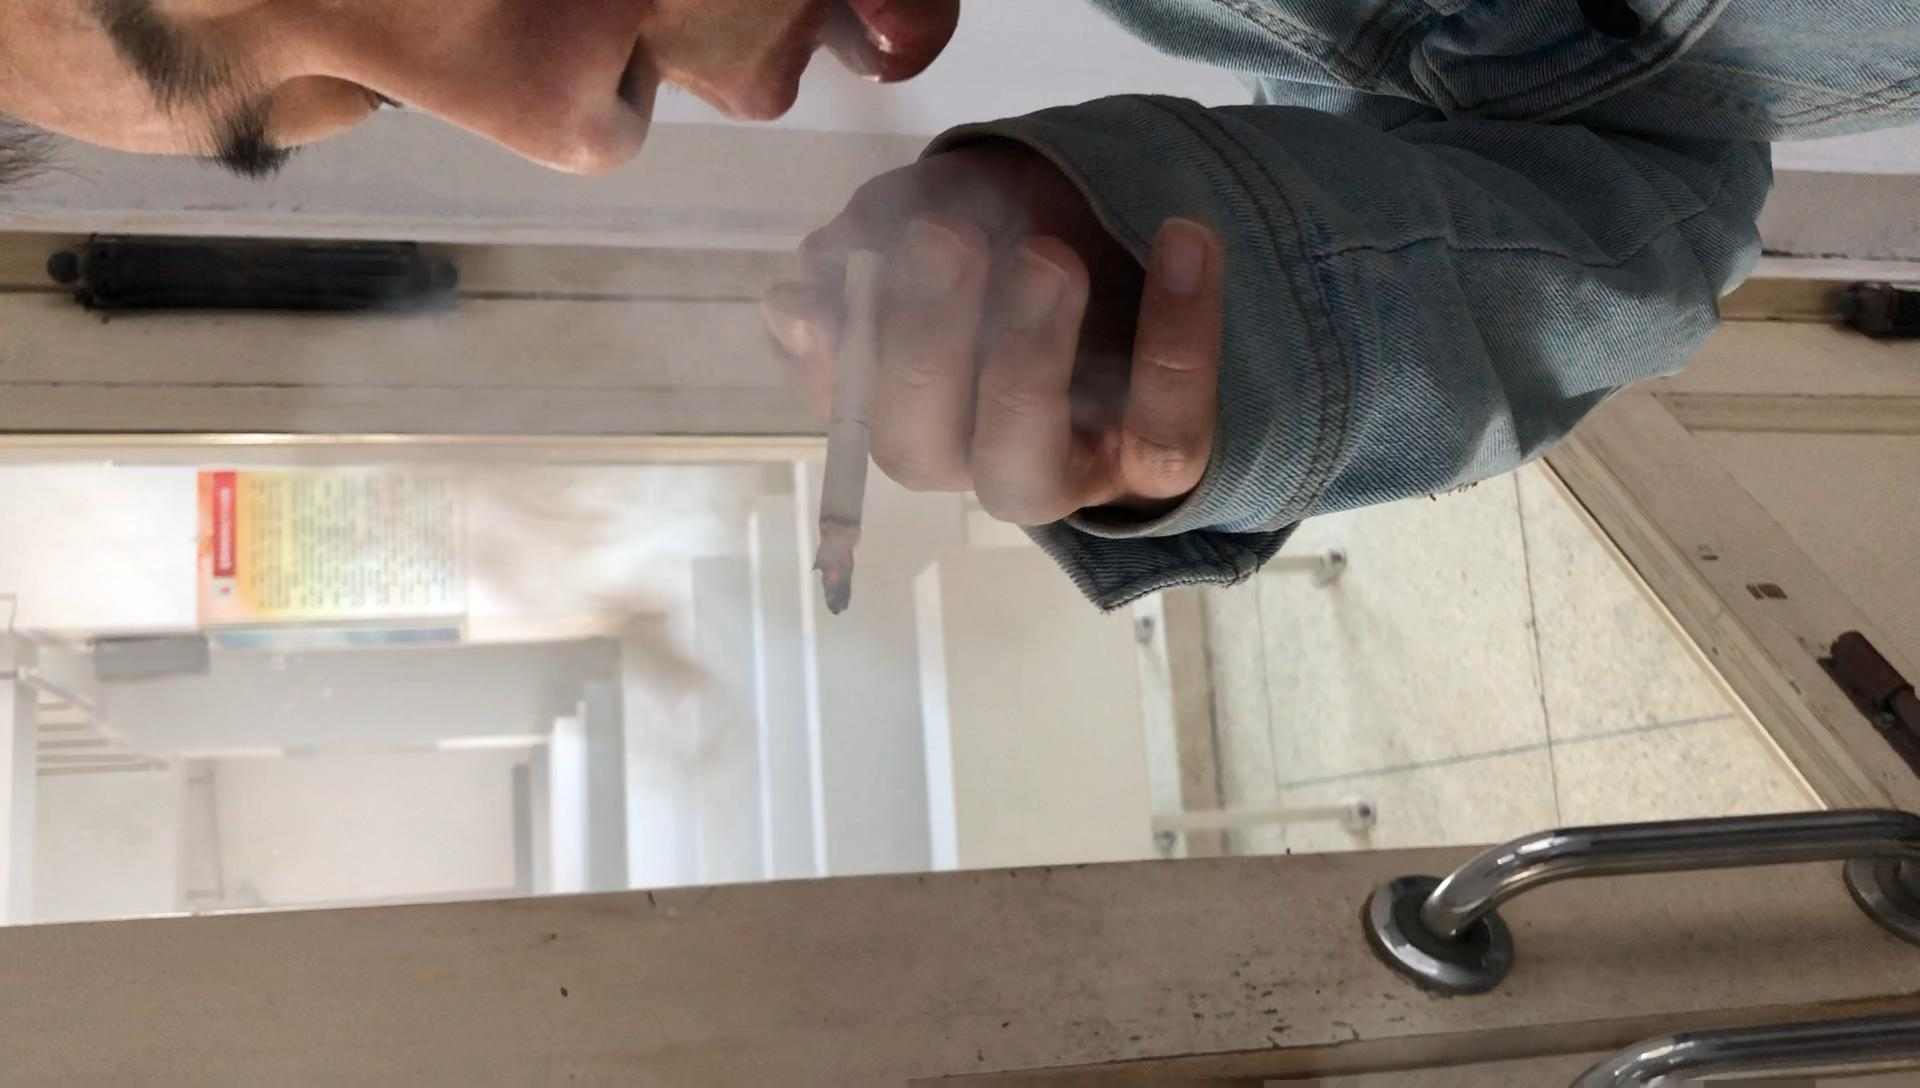yanwu: (305, 167, 777, 702)
